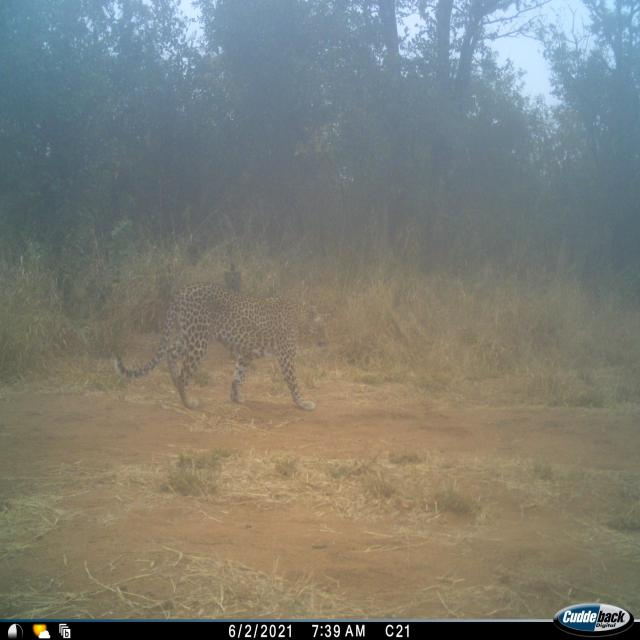Leopard: (115, 264, 336, 422)
